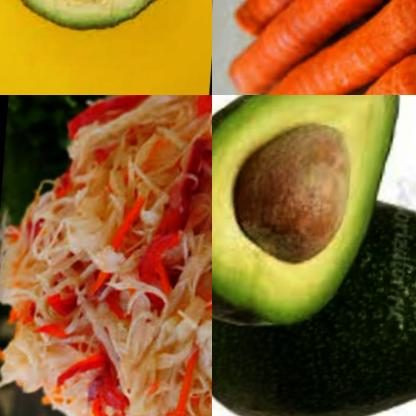avocado: (212, 95, 412, 342), (212, 213, 416, 416), (0, 0, 212, 46)
cabbage: (27, 118, 158, 274), (93, 303, 212, 416), (0, 314, 93, 415), (140, 95, 212, 163), (0, 222, 47, 324), (166, 231, 212, 314)
carrot: (212, 0, 416, 95), (222, 0, 416, 93), (139, 164, 200, 303), (212, 55, 416, 95), (218, 0, 411, 35), (169, 354, 199, 416)
hot pepper: (57, 340, 141, 416), (63, 95, 142, 130), (47, 289, 78, 315)
